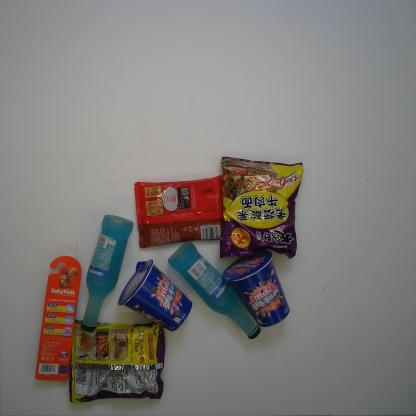Alcohol: (167, 241, 261, 340), (80, 214, 134, 330)
Dessert: (134, 174, 226, 248), (117, 258, 194, 332), (222, 250, 290, 327)
Instant Noodles: (219, 156, 304, 260), (68, 320, 166, 404)
Personal Hygiene: (35, 255, 82, 382)
